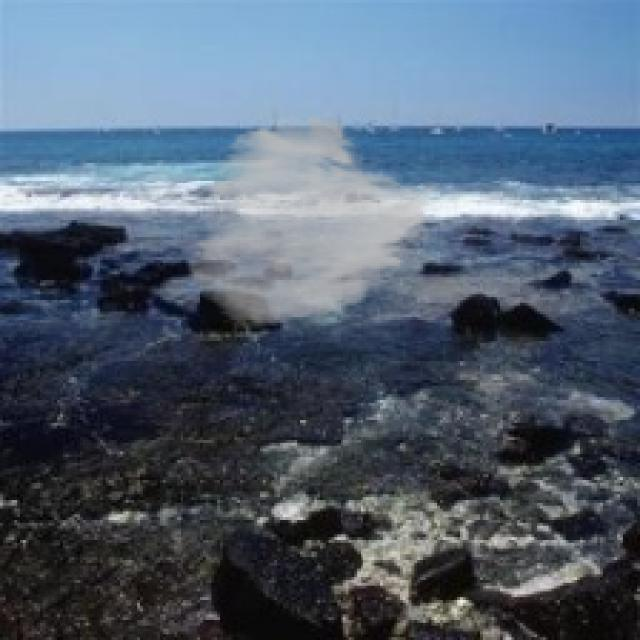smoke: (183, 112, 446, 328)
